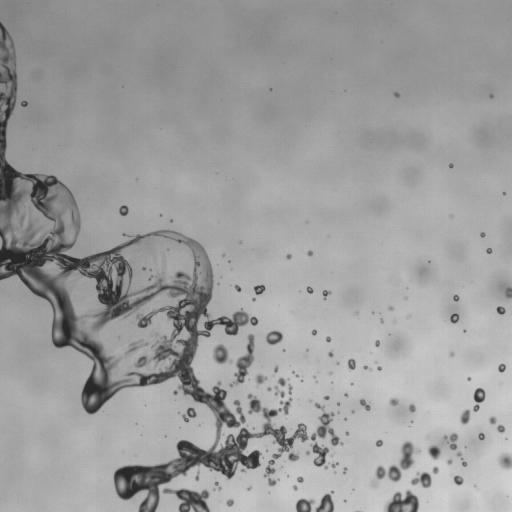droplet: (212, 344, 232, 364), (410, 471, 431, 488), (264, 330, 283, 345), (443, 432, 458, 450), (497, 452, 511, 470), (181, 407, 196, 422), (252, 373, 267, 387), (427, 445, 441, 460), (253, 284, 265, 295), (451, 474, 463, 485), (14, 90, 25, 101), (11, 105, 22, 116), (4, 124, 15, 135), (3, 152, 14, 163), (36, 167, 47, 178), (294, 249, 305, 260), (448, 301, 459, 312), (207, 308, 218, 319), (212, 323, 223, 334), (237, 324, 248, 335), (221, 334, 232, 345), (207, 335, 218, 346), (253, 337, 264, 348), (203, 347, 214, 358), (227, 350, 238, 361), (82, 357, 93, 368), (189, 358, 200, 369), (246, 364, 257, 375), (261, 365, 272, 376), (169, 375, 180, 386), (266, 375, 277, 386), (143, 383, 154, 394), (202, 383, 213, 394), (183, 395, 194, 406), (222, 397, 233, 408), (260, 398, 271, 409), (266, 398, 277, 409), (341, 398, 352, 409), (397, 399, 408, 410), (195, 401, 206, 412), (206, 411, 217, 422), (253, 412, 264, 423), (270, 416, 281, 427), (452, 421, 463, 432), (305, 423, 316, 434), (318, 436, 329, 447), (199, 440, 210, 451), (438, 442, 449, 453), (439, 446, 450, 457), (257, 454, 268, 465), (390, 454, 401, 465), (434, 455, 445, 466), (141, 456, 152, 467), (424, 456, 435, 467), (195, 462, 206, 473), (452, 464, 463, 475), (400, 468, 411, 479), (168, 478, 179, 489), (191, 482, 202, 493), (411, 484, 422, 495), (135, 489, 146, 500), (119, 205, 129, 216), (347, 358, 355, 371), (212, 481, 222, 491), (322, 289, 331, 300), (450, 313, 459, 323), (504, 286, 511, 298), (496, 424, 505, 433), (11, 161, 20, 170), (313, 288, 322, 297), (205, 302, 214, 311), (382, 310, 391, 319), (303, 374, 312, 383), (288, 376, 297, 385), (77, 377, 86, 386), (240, 400, 249, 409), (101, 401, 110, 410), (340, 406, 349, 415), (265, 433, 274, 442), (241, 447, 250, 456), (170, 449, 179, 458), (127, 457, 136, 466), (256, 464, 265, 473), (187, 466, 196, 475), (456, 467, 465, 476), (384, 493, 393, 502), (496, 306, 505, 314), (498, 363, 506, 372), (389, 398, 398, 406), (505, 302, 511, 313), (505, 363, 511, 374), (505, 424, 511, 435), (505, 445, 511, 456), (505, 466, 511, 477), (375, 505, 386, 511), (489, 416, 497, 424), (375, 439, 383, 447), (431, 466, 439, 474), (408, 403, 415, 412), (234, 284, 241, 292), (306, 286, 313, 294), (226, 499, 234, 506), (20, 100, 27, 107), (296, 476, 303, 483), (15, 76, 22, 83), (162, 213, 169, 220), (167, 223, 174, 230), (129, 230, 136, 237), (198, 238, 205, 245), (62, 248, 69, 255), (211, 268, 218, 275), (11, 273, 18, 280), (212, 275, 219, 282), (210, 288, 217, 295), (498, 288, 505, 295), (33, 294, 40, 301), (39, 297, 46, 304), (226, 312, 233, 319), (372, 313, 379, 320), (197, 334, 204, 341), (325, 342, 332, 349), (63, 344, 70, 351), (240, 348, 247, 355), (213, 361, 220, 368), (216, 362, 223, 369), (274, 371, 281, 378), (261, 380, 268, 387), (154, 382, 161, 389), (281, 385, 288, 392), (318, 398, 325, 405), (266, 403, 273, 410), (78, 406, 85, 413), (315, 408, 322, 415), (456, 408, 463, 415), (277, 410, 284, 417), (468, 410, 475, 417), (408, 411, 415, 418), (454, 414, 461, 421), (256, 425, 263, 432), (284, 431, 291, 438), (324, 432, 331, 439), (338, 434, 345, 441), (293, 437, 300, 444), (305, 438, 312, 445), (396, 440, 403, 447), (411, 440, 418, 447), (273, 442, 280, 449), (281, 450, 288, 457), (298, 451, 305, 458), (409, 452, 416, 459), (424, 452, 431, 459), (159, 457, 166, 464), (454, 458, 461, 465), (235, 461, 242, 468), (382, 463, 389, 470), (335, 464, 342, 471), (247, 467, 254, 474), (425, 467, 432, 474), (369, 469, 376, 476), (107, 471, 114, 478), (269, 472, 276, 479), (429, 472, 436, 479), (382, 474, 389, 481), (157, 483, 164, 490), (117, 497, 124, 504), (204, 497, 211, 504), (310, 502, 317, 509), (478, 432, 484, 440), (506, 188, 511, 197), (225, 506, 234, 511), (453, 294, 459, 301), (374, 340, 380, 347), (448, 351, 455, 357), (446, 458, 452, 465), (307, 250, 313, 256), (286, 253, 292, 259), (325, 336, 331, 342), (0, 82, 4, 91), (311, 329, 316, 336), (328, 350, 333, 357), (342, 467, 347, 474), (292, 484, 297, 491), (393, 92, 399, 97), (486, 248, 492, 253), (353, 310, 359, 315), (323, 395, 329, 400), (246, 485, 252, 490), (290, 507, 297, 511), (416, 507, 423, 511), (448, 163, 453, 168), (480, 232, 485, 237), (406, 314, 411, 319), (305, 450, 310, 455), (2, 22, 7, 27), (12, 38, 17, 43), (13, 43, 18, 48), (14, 50, 19, 55), (16, 84, 21, 89), (396, 88, 401, 93), (28, 169, 33, 174), (46, 170, 51, 175), (56, 175, 61, 180), (72, 192, 77, 197), (116, 202, 121, 207), (115, 211, 120, 216), (126, 211, 131, 216), (118, 214, 123, 219), (122, 214, 127, 219), (79, 221, 84, 226), (151, 226, 156, 231), (78, 228, 83, 233), (188, 233, 193, 238), (76, 234, 81, 239), (192, 235, 197, 240), (125, 236, 130, 241), (106, 245, 111, 250), (307, 245, 312, 250), (99, 247, 104, 252), (92, 249, 97, 254), (205, 249, 210, 254), (287, 249, 292, 254), (302, 249, 307, 254), (312, 250, 317, 255), (223, 255, 228, 260), (306, 255, 311, 260), (208, 256, 213, 261), (2, 277, 7, 282), (19, 281, 24, 286), (238, 282, 243, 287), (23, 285, 28, 290), (231, 287, 236, 292), (250, 289, 255, 294), (325, 294, 330, 299), (389, 301, 394, 306), (497, 301, 502, 306), (235, 306, 240, 311), (242, 307, 247, 312), (492, 309, 497, 314), (445, 316, 450, 321), (47, 321, 52, 326), (246, 321, 251, 326), (256, 321, 261, 326), (220, 323, 225, 328), (237, 325, 242, 330), (269, 326, 274, 331), (274, 326, 279, 331), (280, 330, 285, 335), (228, 333, 233, 338), (243, 339, 248, 344), (370, 339, 375, 344), (275, 341, 280, 346), (378, 342, 383, 347), (50, 344, 55, 349), (251, 350, 256, 355), (332, 350, 337, 355), (323, 352, 328, 357), (453, 353, 458, 358), (346, 354, 351, 359), (343, 362, 348, 367), (372, 364, 377, 369), (493, 366, 498, 371), (504, 366, 509, 371), (233, 367, 238, 372), (350, 368, 355, 373), (261, 371, 266, 376), (289, 373, 294, 378), (243, 374, 248, 379), (282, 374, 287, 379), (232, 375, 237, 380), (327, 375, 332, 380), (284, 379, 289, 384), (211, 381, 216, 386), (197, 382, 202, 387), (237, 382, 242, 387), (218, 384, 223, 389), (480, 384, 485, 389), (138, 385, 143, 390), (278, 385, 283, 390), (270, 387, 275, 392), (168, 389, 173, 394), (469, 391, 474, 396), (170, 393, 175, 398), (391, 393, 396, 398), (187, 394, 192, 399), (357, 394, 362, 399), (469, 395, 474, 400), (282, 396, 287, 401), (483, 396, 488, 401), (289, 400, 294, 405), (472, 400, 477, 405), (477, 401, 482, 406), (309, 402, 314, 407), (369, 403, 374, 408), (389, 404, 394, 409), (393, 404, 398, 409), (404, 404, 409, 409), (414, 404, 419, 409), (360, 405, 365, 410), (287, 406, 292, 411), (324, 408, 329, 413), (258, 410, 263, 415), (487, 412, 492, 417), (188, 416, 193, 421), (262, 417, 267, 422), (484, 418, 489, 423), (495, 420, 500, 425), (327, 422, 332, 427), (492, 423, 497, 428), (503, 423, 508, 428), (211, 425, 216, 430), (292, 425, 297, 430), (248, 428, 253, 433), (333, 430, 338, 435), (446, 431, 451, 436), (500, 431, 505, 436), (374, 435, 379, 440), (310, 439, 315, 444), (453, 439, 458, 444), (335, 443, 340, 448), (307, 446, 312, 451), (455, 446, 460, 451), (257, 447, 262, 452), (451, 449, 456, 454), (313, 452, 318, 457), (324, 453, 329, 458), (257, 456, 262, 461), (287, 459, 292, 464), (293, 459, 298, 464), (319, 464, 324, 469), (327, 465, 332, 470), (437, 466, 442, 471), (418, 469, 423, 474), (216, 470, 221, 475), (453, 470, 458, 475), (297, 471, 302, 476), (177, 472, 182, 477), (231, 474, 236, 479), (302, 475, 307, 480), (263, 478, 268, 483), (449, 478, 454, 483), (275, 480, 280, 485), (461, 480, 466, 485), (295, 481, 300, 486), (416, 481, 421, 486), (273, 483, 278, 488), (110, 485, 115, 490), (268, 485, 273, 490), (288, 486, 293, 491), (425, 486, 430, 491), (207, 488, 212, 493), (325, 489, 330, 494), (158, 491, 163, 496), (224, 495, 229, 500), (295, 495, 300, 500), (304, 495, 309, 500), (330, 495, 335, 500), (177, 498, 182, 503), (292, 498, 297, 503), (221, 500, 226, 505), (232, 501, 237, 506), (388, 306, 394, 310), (327, 371, 333, 375), (448, 214, 453, 218), (377, 366, 382, 370), (345, 430, 349, 435), (489, 94, 493, 98), (221, 253, 225, 257), (467, 377, 471, 381), (344, 393, 348, 397), (343, 417, 347, 421), (380, 318, 383, 323), (350, 410, 355, 413), (508, 282, 511, 287), (154, 508, 159, 511), (174, 508, 179, 511), (188, 508, 193, 511), (332, 508, 337, 511), (502, 192, 506, 195), (169, 219, 173, 222), (239, 240, 242, 244), (252, 297, 255, 301), (462, 329, 466, 332), (336, 361, 339, 365), (308, 399, 312, 402), (337, 402, 340, 406), (343, 499, 347, 502), (0, 242, 2, 247), (269, 88, 272, 91), (159, 213, 162, 216), (227, 260, 230, 263), (217, 282, 220, 285), (404, 296, 407, 299), (371, 311, 374, 314), (282, 348, 285, 351), (374, 361, 377, 364), (300, 379, 303, 382), (350, 382, 353, 385), (177, 411, 180, 414), (337, 411, 340, 414), (410, 420, 413, 423), (265, 449, 268, 452), (286, 474, 289, 477), (268, 84, 271, 87), (271, 88, 274, 91), (267, 90, 270, 93), (492, 92, 495, 95), (486, 94, 489, 97), (392, 95, 395, 98), (492, 96, 495, 99), (25, 98, 28, 101), (26, 103, 29, 106), (446, 161, 449, 164), (449, 167, 452, 170), (68, 187, 71, 190), (501, 188, 504, 191), (505, 191, 508, 194), (499, 192, 502, 195), (503, 194, 506, 197), (122, 202, 125, 205), (158, 210, 161, 213), (161, 212, 164, 215), (156, 214, 159, 217), (159, 216, 162, 219), (167, 216, 170, 219), (172, 218, 175, 221), (174, 228, 177, 231), (479, 229, 482, 232), (120, 230, 123, 233), (124, 231, 127, 234), (484, 231, 487, 234), (139, 232, 142, 235), (477, 234, 480, 237), (481, 236, 484, 239), (487, 244, 490, 247), (491, 248, 494, 251), (220, 250, 223, 253), (483, 250, 486, 253), (489, 252, 492, 255), (283, 255, 286, 258), (426, 257, 429, 260), (287, 258, 290, 261), (230, 259, 233, 262), (430, 259, 433, 262), (226, 262, 229, 265), (426, 262, 429, 265), (257, 282, 260, 285), (263, 283, 266, 286), (309, 284, 312, 287), (240, 287, 243, 290), (325, 287, 328, 290), (312, 288, 315, 291), (262, 290, 265, 293), (305, 291, 308, 294), (457, 293, 460, 296), (320, 294, 323, 297), (450, 294, 453, 297), (450, 298, 453, 301), (457, 298, 460, 301), (323, 299, 326, 302), (253, 300, 256, 303), (453, 300, 456, 303), (389, 310, 392, 313), (452, 310, 455, 313), (368, 311, 371, 314), (448, 313, 451, 316), (378, 314, 381, 317), (255, 315, 258, 318), (458, 315, 461, 318), (382, 317, 385, 320), (377, 318, 380, 321), (457, 318, 460, 321), (449, 321, 452, 324), (380, 323, 383, 326), (463, 326, 466, 329), (309, 328, 312, 331), (460, 330, 463, 333), (464, 331, 467, 334), (315, 332, 318, 335), (327, 333, 330, 336), (48, 334, 51, 337), (311, 334, 314, 337), (387, 335, 390, 338), (329, 339, 332, 342), (326, 341, 329, 344), (374, 346, 377, 349), (302, 348, 305, 351), (307, 350, 310, 353), (282, 351, 285, 354), (328, 356, 331, 359), (502, 361, 505, 364), (354, 362, 357, 365), (364, 362, 367, 365), (377, 363, 380, 366), (335, 364, 338, 367), (365, 368, 368, 371), (376, 369, 379, 372), (379, 369, 382, 372), (294, 370, 297, 373), (500, 371, 503, 374), (314, 372, 317, 375), (331, 373, 334, 376), (467, 373, 470, 376), (298, 376, 301, 379), (315, 376, 318, 379), (302, 377, 305, 380), (464, 377, 467, 380), (470, 377, 473, 380), (312, 378, 315, 381), (350, 379, 353, 382), (300, 381, 303, 384), (330, 383, 333, 386), (347, 383, 350, 386), (351, 384, 354, 387), (290, 389, 293, 392), (342, 390, 345, 393), (324, 392, 327, 395), (347, 392, 350, 395), (343, 395, 346, 398), (328, 396, 331, 399), (397, 400, 400, 403), (319, 403, 322, 406), (339, 403, 342, 406), (336, 405, 339, 408), (365, 410, 368, 413), (333, 411, 336, 414), (346, 416, 349, 419), (180, 417, 183, 420), (297, 420, 300, 423), (342, 420, 345, 423), (303, 421, 306, 424), (408, 422, 411, 425), (200, 423, 203, 426), (477, 430, 480, 433), (348, 431, 351, 434), (483, 432, 486, 435), (475, 434, 478, 437), (373, 439, 376, 442), (480, 439, 483, 442), (504, 439, 507, 442), (380, 444, 383, 447), (466, 444, 469, 447), (460, 454, 463, 457), (463, 458, 466, 461), (346, 465, 349, 468), (345, 469, 348, 472), (283, 473, 286, 476), (459, 483, 462, 486), (245, 484, 248, 487), (471, 486, 474, 489), (330, 487, 333, 490), (220, 488, 223, 491), (249, 488, 252, 491), (348, 488, 351, 491), (351, 490, 354, 493), (341, 496, 344, 499), (344, 496, 347, 499), (356, 507, 359, 510), (360, 507, 363, 510), (428, 260, 430, 263), (306, 348, 308, 351), (198, 423, 200, 426), (352, 488, 355, 490), (230, 268, 232, 270), (220, 276, 222, 278), (406, 287, 408, 289), (299, 290, 301, 292), (388, 333, 390, 335), (331, 381, 333, 383), (164, 435, 166, 437), (505, 437, 507, 439), (464, 446, 466, 448), (268, 491, 270, 493), (248, 378, 249, 380), (135, 423, 137, 424)
ligament: (370, 440, 421, 488), (229, 333, 254, 387), (459, 387, 485, 425), (295, 490, 334, 511), (456, 451, 467, 466), (359, 398, 371, 411), (272, 365, 278, 377), (363, 365, 372, 371), (292, 370, 299, 377), (312, 375, 318, 383), (329, 452, 335, 457), (473, 484, 478, 488), (252, 426, 255, 431), (354, 510, 363, 511)
